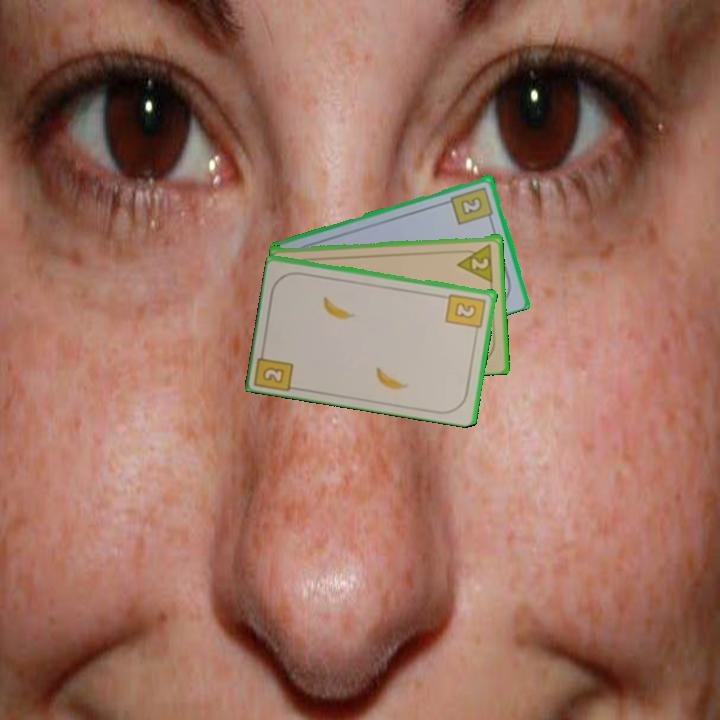2b: (253, 343, 297, 393), (443, 290, 489, 336), (448, 183, 496, 227)
2p: (454, 239, 496, 283)
